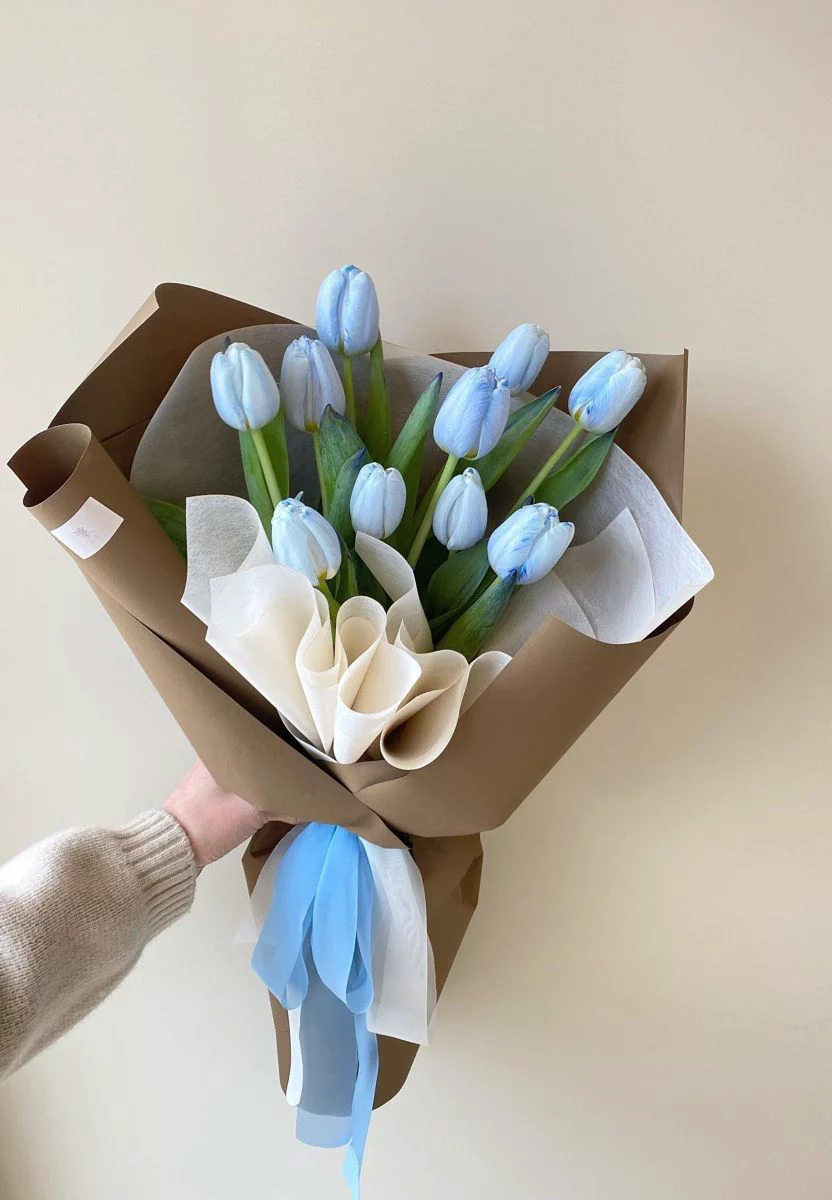tulip: (199, 334, 283, 434), (429, 365, 515, 462), (484, 501, 578, 585), (563, 344, 650, 434), (276, 332, 350, 437), (267, 488, 343, 590), (312, 261, 381, 357), (483, 316, 555, 398), (430, 464, 491, 552), (346, 459, 408, 544)
